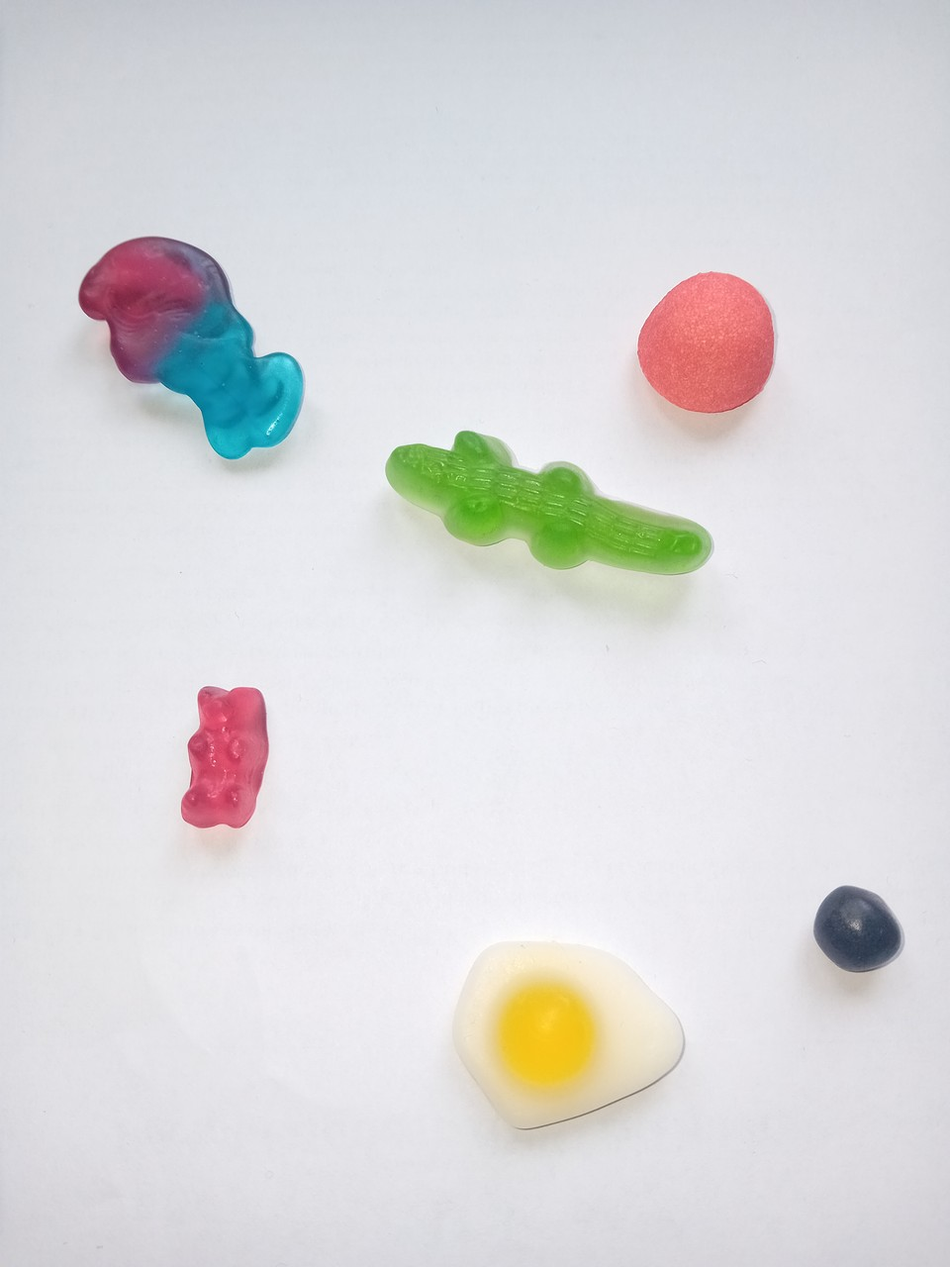crocodile_vert: (371, 427, 723, 585)
dragibus_noir: (810, 880, 903, 983)
oeuf_oeuf: (437, 930, 691, 1139)
ourson_rouge: (175, 673, 277, 835)
schtroumpf_bleu-rouge: (63, 229, 309, 466)
tagada_fraise: (635, 266, 781, 418)
